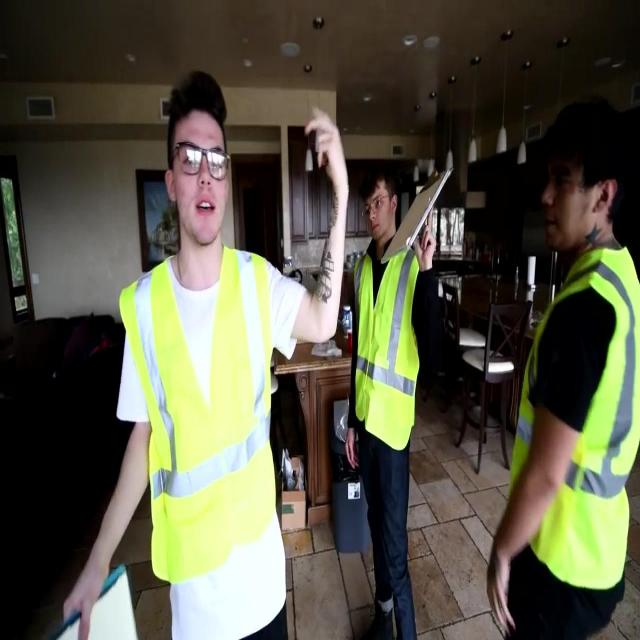Reflective-Jacket: (118, 244, 286, 620), (506, 245, 640, 590), (351, 238, 423, 452)
